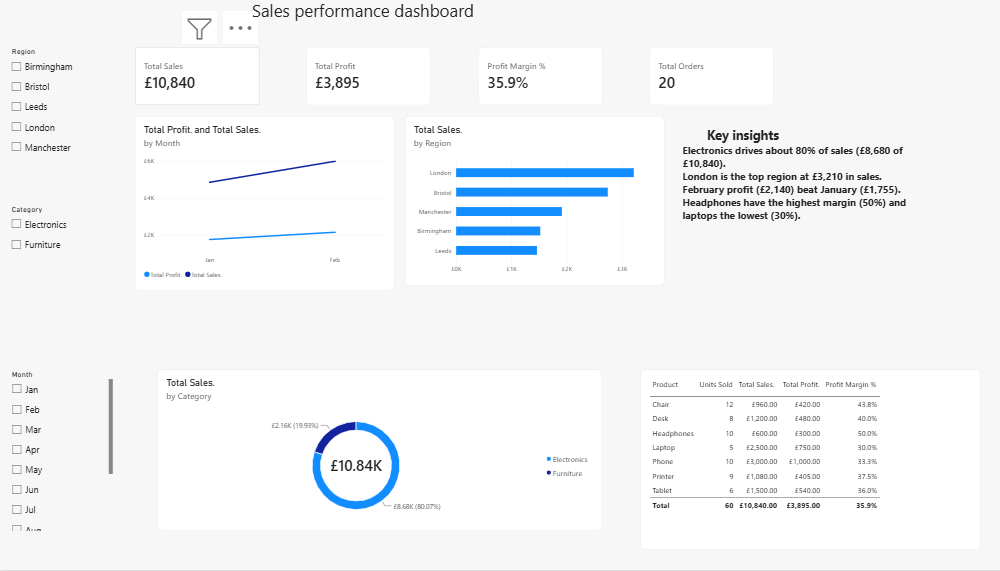

What the dashboard file says about the page in this screenshot:
{"tool":"powerbi","page":{"name":"Sales Overview ","canvas":[1920,1080],"ordinal":0},"visuals":[{"type":"cardVisual","fields":{"Data":["Orders.Total Sales Display"]},"box":[260,90,235,110],"z":0},{"type":"cardVisual","fields":{"Data":["Orders.Total Profit Display"]},"box":[584.4,90,235,110],"z":1000},{"type":"cardVisual","fields":{"Data":["Orders.Profit Margin %"]},"box":[908.8,90,235,110],"z":2000},{"type":"cardVisual","fields":{"Data":["Orders.Total Orders"]},"box":[1233.2,90,235,110],"z":3000},{"type":"clusteredBarChart","fields":{"Category":["Orders.Region"],"Y":["Orders.TS"]},"box":[770,220,490,320],"z":4000},{"type":"lineChart","fields":{"Category":["Calendar.Month"],"Y":["Orders.TP","Orders.Total Sales."]},"box":[260,220,490,330],"z":5000},{"type":"donutChart","fields":{"Category":["Orders.Category"],"Y":["Orders.Total Sales."]},"box":[304.3,701.1,839.9,304.3],"z":6000},{"type":"tableEx","fields":{"Values":["Orders.Product","Orders.Units Sold","Orders.Total Sales.","Orders.Total Profit.","Orders.Profit Margin %"]},"box":[1214.8,701.1,642.7,340.8],"z":7000},{"type":"slicer","fields":{"Values":["Orders.Region"]},"box":[19.5,90.1,199.6,231.3],"z":8000},{"type":"slicer","fields":{"Values":["Orders.Category"]},"box":[19.5,387.1,199.6,245.9],"z":9000},{"type":"slicer","fields":{"Values":["Calendar.Month"]},"box":[19.5,701.1,199.6,304.3],"z":10000},{"type":"textbox","box":[483.2,0,448.4,88.9],"z":11000},{"type":"textbox","box":[1295.2,241,479.6,460.1],"z":11001}]}

Visuals, with their boxes on the page's 1920x1080 design canvas (x1, y1, x2, y2). These are canvas units, not pixel positions in the 1000x571 screenshot, which may show the page scaled, cropped or inside an application window:
cardVisual - Orders.Total Sales Display: (x1=260, y1=90, x2=495, y2=200)
cardVisual - Orders.Total Profit Display: (x1=584, y1=90, x2=819, y2=200)
cardVisual - Orders.Profit Margin %: (x1=909, y1=90, x2=1144, y2=200)
cardVisual - Orders.Total Orders: (x1=1233, y1=90, x2=1468, y2=200)
clusteredBarChart - Orders.Region x Orders.TS: (x1=770, y1=220, x2=1260, y2=540)
lineChart - Calendar.Month x Orders.TP: (x1=260, y1=220, x2=750, y2=550)
donutChart - Orders.Category x Orders.Total Sales.: (x1=304, y1=701, x2=1144, y2=1005)
tableEx - Orders.Product x Orders.Units Sold: (x1=1215, y1=701, x2=1858, y2=1042)
slicer - Orders.Region: (x1=20, y1=90, x2=219, y2=321)
slicer - Orders.Category: (x1=20, y1=387, x2=219, y2=633)
slicer - Calendar.Month: (x1=20, y1=701, x2=219, y2=1005)
textbox: (x1=483, y1=0, x2=932, y2=89)
textbox: (x1=1295, y1=241, x2=1775, y2=701)
